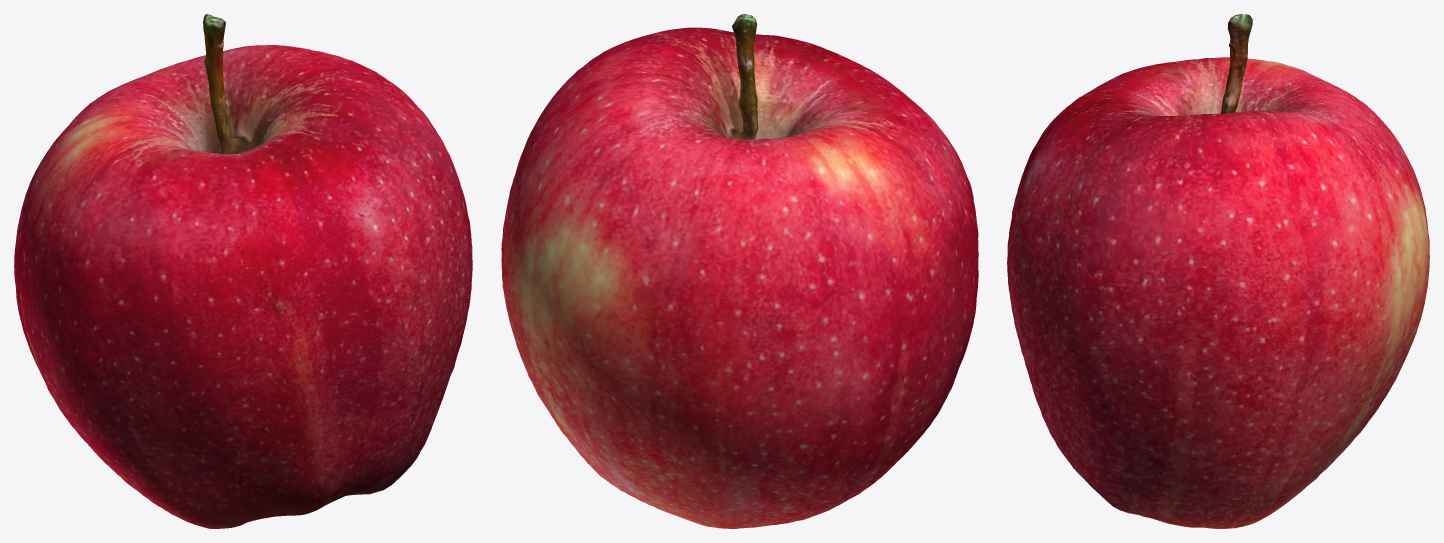
Rendered from realistic_apple.glb.
The picture shows the model from 3 angles, left to right: view 1: azimuth 30°, elevation 25°; view 2: azimuth 150°, elevation 25°; view 3: azimuth 270°, elevation 25°; orthographic projection. The views are drawn at different scales.
Parts seen in each view (by area): view 1: Object_4; view 2: Object_4; view 3: Object_4.
Part boxes in pixels (x1,y1,x2,y2): Object_4: (14, 14, 472, 528); Object_4: (501, 14, 978, 528); Object_4: (1007, 14, 1429, 528).
Bounding box in the file's own units: 0.0663 × 0.0756 × 0.0624.
Materials: 1 (1 with a texture image).
